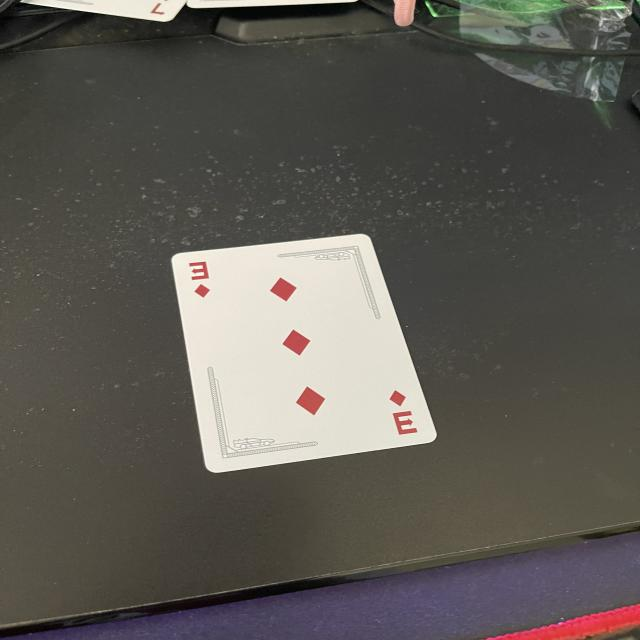3 of diamonds: (173, 234, 437, 474)
